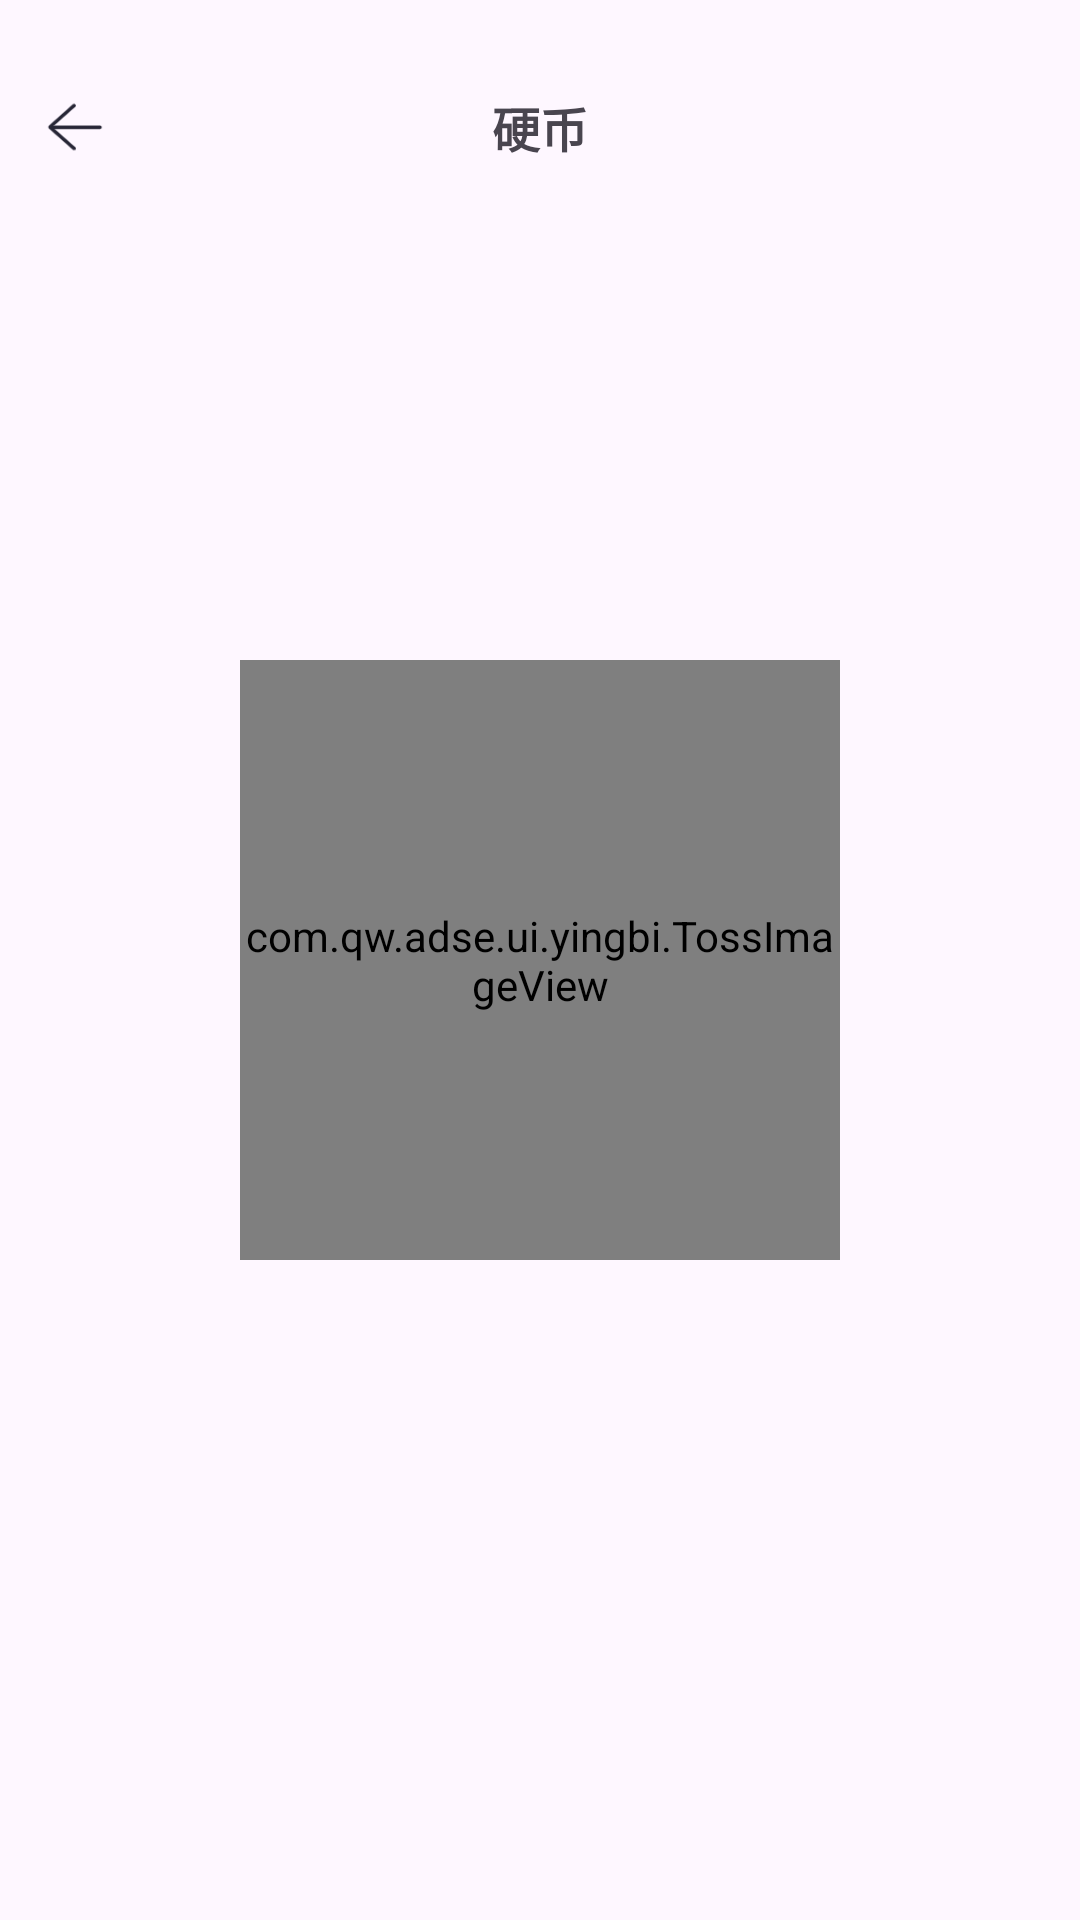

Icons on this 1080x1920 Android screen, each with the point to tap as (x=x, y=y):
fanhui: (x=75, y=127)
